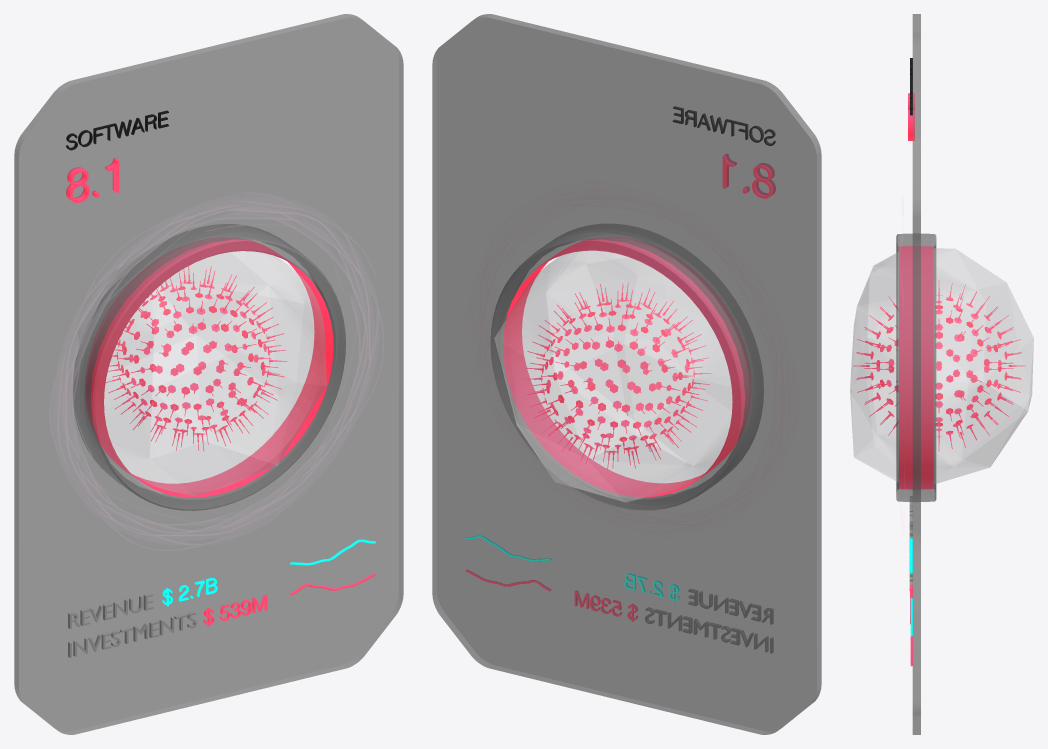
3 views of the same model, side by side, from view 1: azimuth 30°, elevation 25°; view 2: azimuth 150°, elevation 25°; view 3: azimuth 270°, elevation 25° (orthographic). The views are drawn at different scales.
Visible parts, largest first — view 1: baseRed.001, Glass.008, cornerRed.001, neon-corner.008, neon-sphere.009, Text.051, Text.053, neon-rimRed.001, Text.052, Text.048, Text.049; view 2: baseRed.001, Glass.008, cornerRed.001, neon-corner.008, neon-sphere.009, Text.051, Text.053, Text.052, Text.048, Text.054; view 3: Glass.008, cornerRed.001, neon-corner.008, baseRed.001, neon-sphere.009.
Part boxes in pixels (<box>): baseRed.001: <box>14,14,403,734</box>; Glass.008: <box>104,251,326,495</box>; cornerRed.001: <box>73,224,345,510</box>; neon-corner.008: <box>85,237,333,497</box>; neon-sphere.009: <box>105,266,287,451</box>; Text.051: <box>66,110,168,150</box>; Text.053: <box>68,612,196,657</box>; neon-rimRed.001: <box>66,203,370,536</box>; Text.052: <box>66,158,119,202</box>; Text.048: <box>70,611,196,656</box>; Text.049: <box>203,595,267,626</box>; baseRed.001: <box>432,14,821,734</box>; Glass.008: <box>494,251,732,502</box>; cornerRed.001: <box>490,224,763,510</box>; neon-corner.008: <box>503,237,750,497</box>; neon-sphere.009: <box>524,283,711,469</box>; Text.051: <box>672,106,775,145</box>; Text.053: <box>645,608,773,653</box>; Text.052: <box>722,154,775,198</box>; Text.048: <box>645,607,766,651</box>; Text.054: <box>688,590,773,624</box>; Glass.008: <box>850,248,1033,483</box>; cornerRed.001: <box>896,233,936,501</box>; neon-corner.008: <box>899,246,933,489</box>; baseRed.001: <box>912,14,920,734</box>; neon-sphere.009: <box>853,280,1024,451</box>.
Bounding box in the file's own units: 1.47 × 2.38 × 0.666.
Materials: 10 (1 with a texture image).
